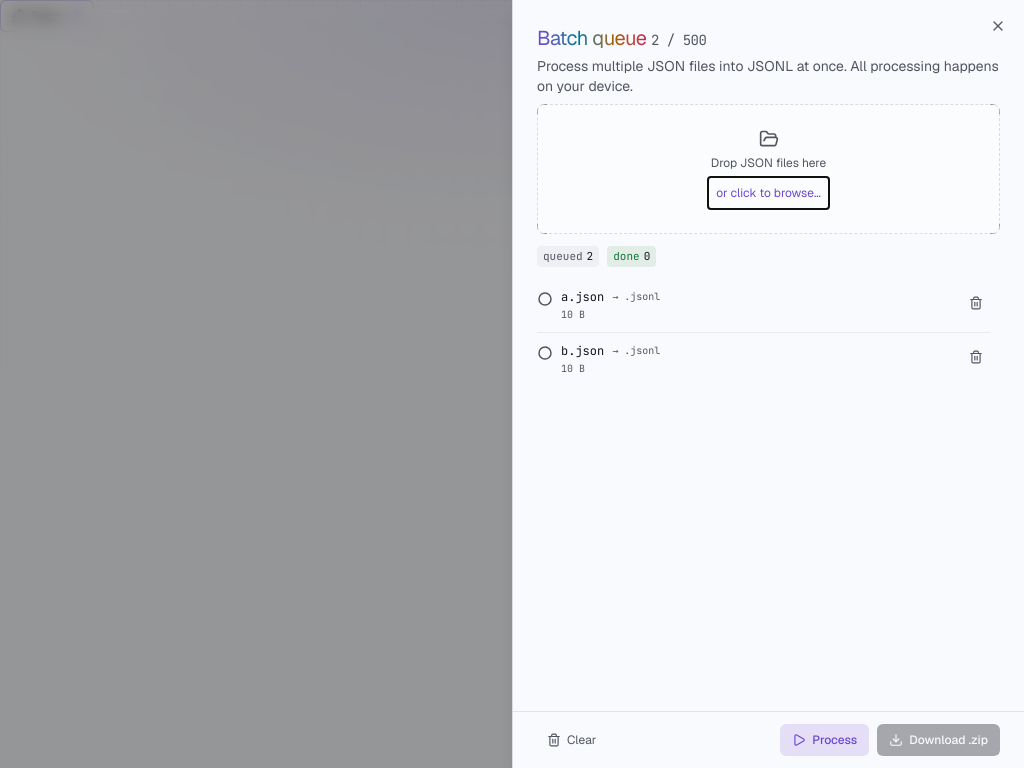
BatchPanel queue actions › removes single rows and clears the queue
This screenshot has width=1024, height=768.
Click the button named "Remove a.json from queue" at (976, 302), box x1=962 y1=288 x2=990 y2=316
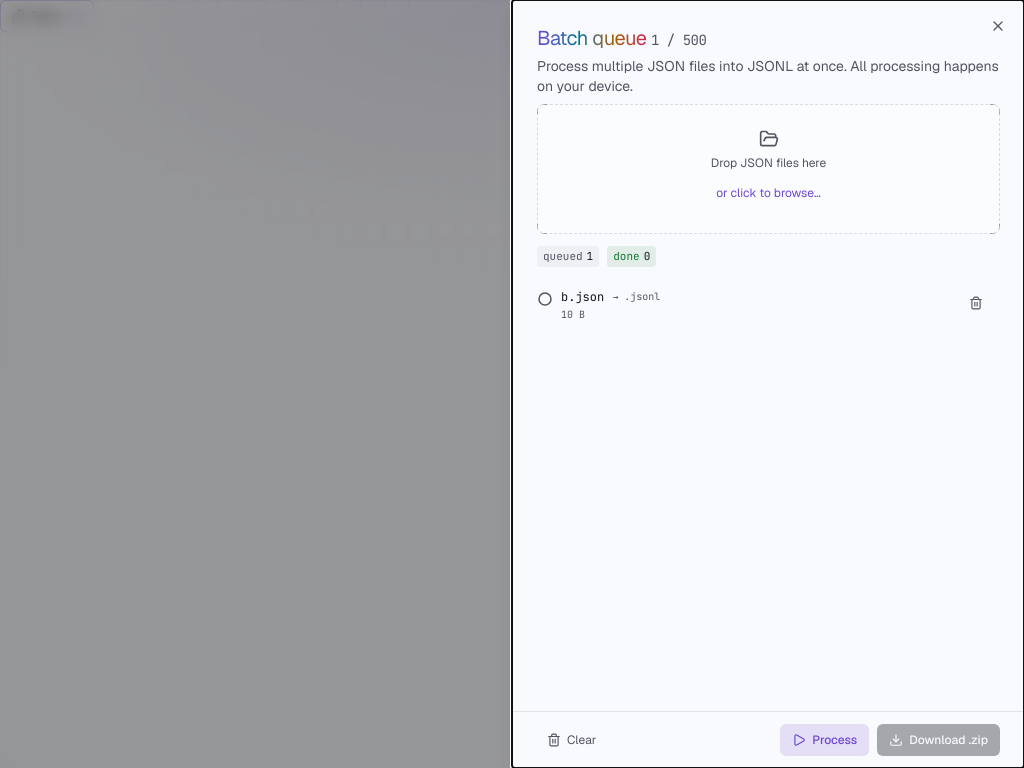
expect the text "a.json" is gone: met
Click the button "Clear" at (572, 740), box x1=537 y1=724 x2=606 y2=756
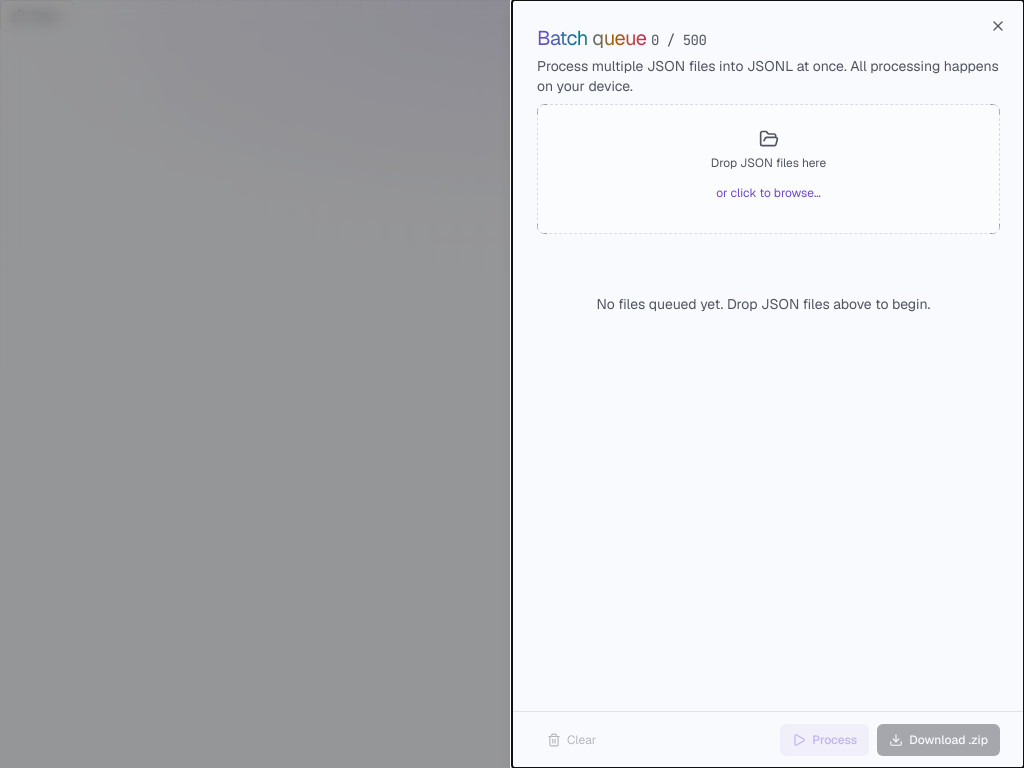
expect the text "No files queued yet. Drop JSON files above to begin." is shown: met, box x1=597 y1=295 x2=930 y2=313
